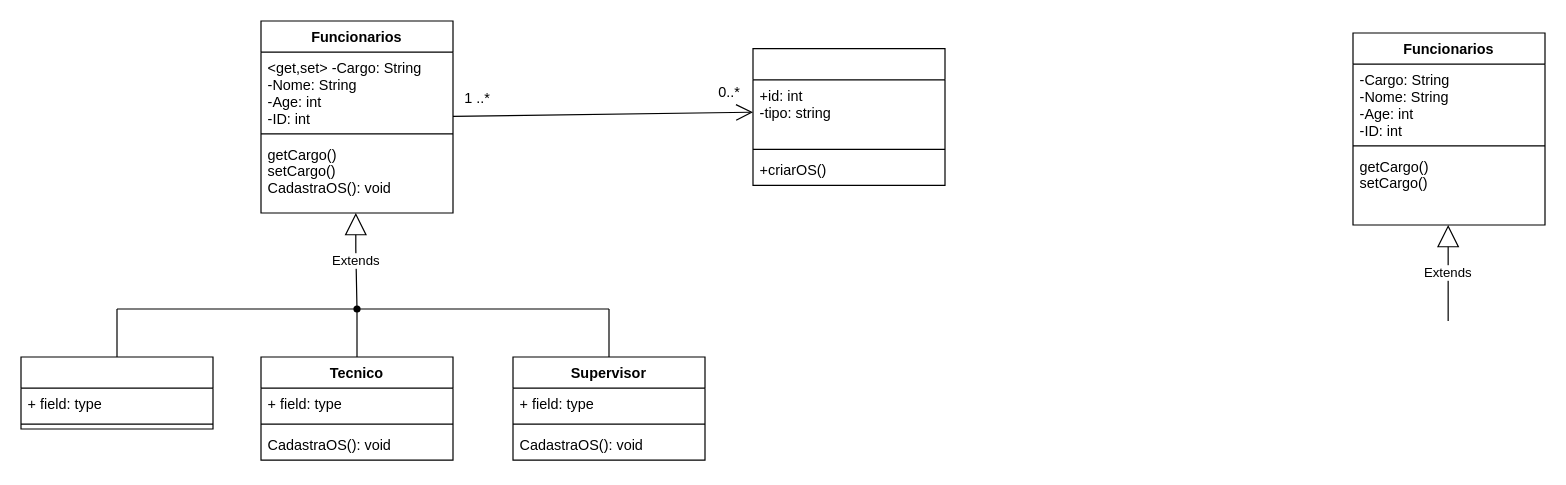
This 1566x485 diagram has some shape labels left out. Each missing label, with the box of its shape:
Operador: (20, 356, 213, 429)
OSs: (752, 47, 945, 185)
